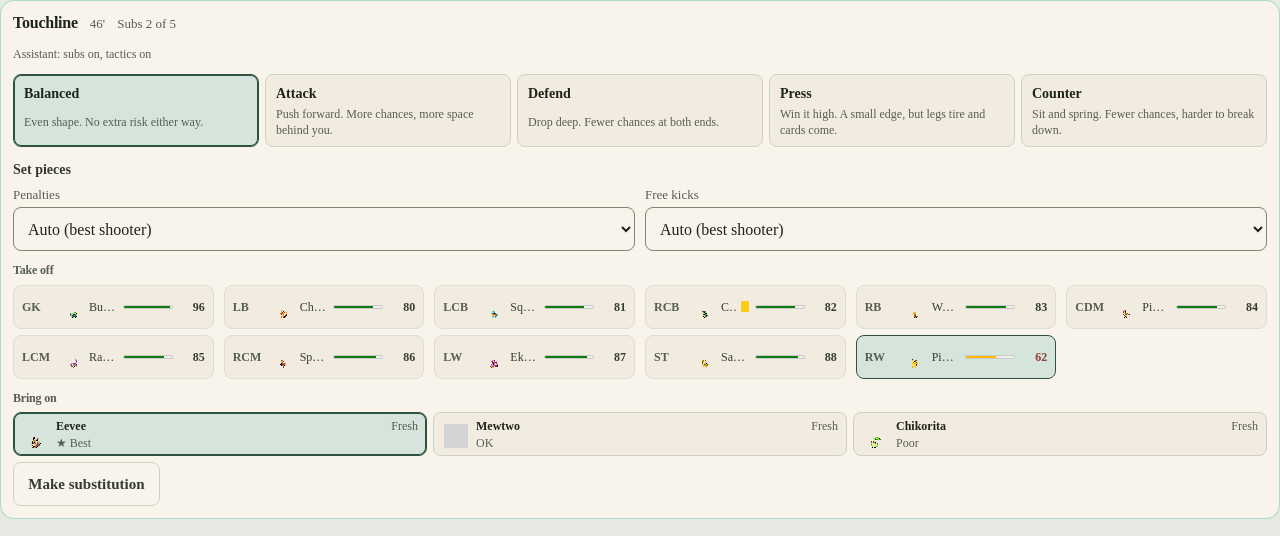
Touchline intelligence (catches a touchline that hides the assistant's state, the bench's fit or a booking) › with ratings off, bench cards show the fit glyph for the outgoing slot and no numbers
Click the button with test id "energy-slot-4" at (956,307), box [856, 285, 1056, 329]
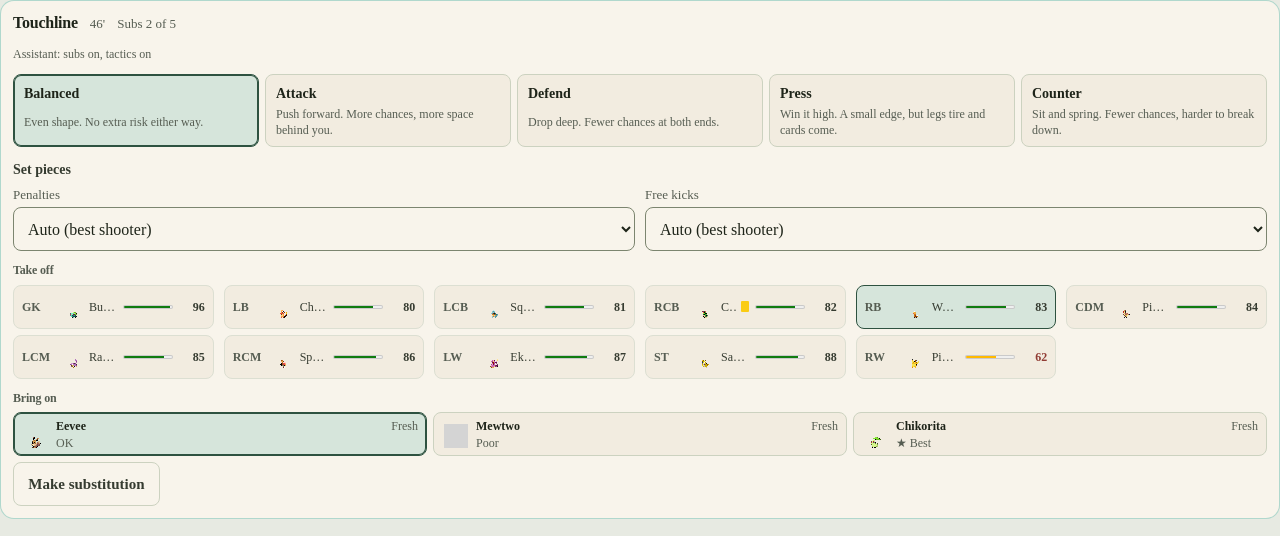
expect the element showing "★ Best" is shown: met, box [896, 436, 931, 450]
